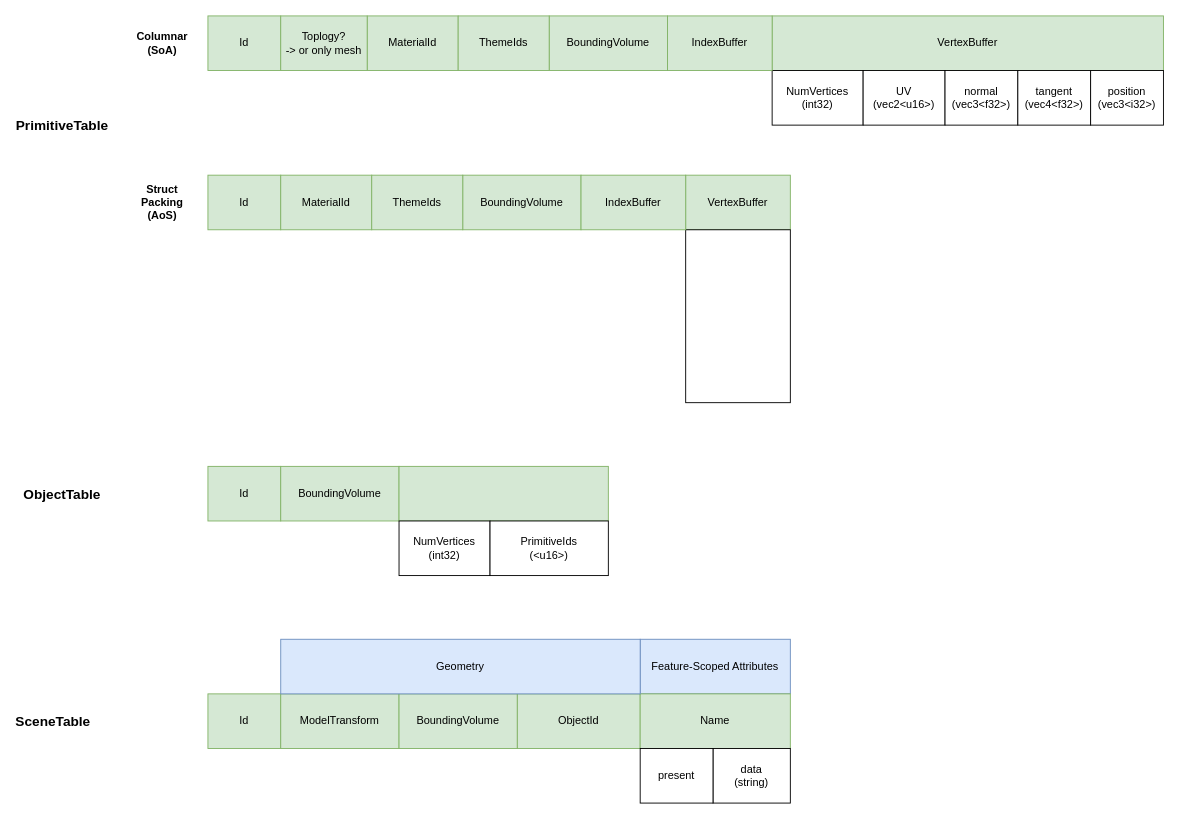
Some shapes in this 1179 by 819 pixel diagram are drawn without their labels. Each missing label, with the centre of its shape:
Primitives: (503,493)
x1 y1 z1 uv.x1 uv.y1 .... x2 y2 z2 uv.x2 uv.y2 ......: (737,316)
